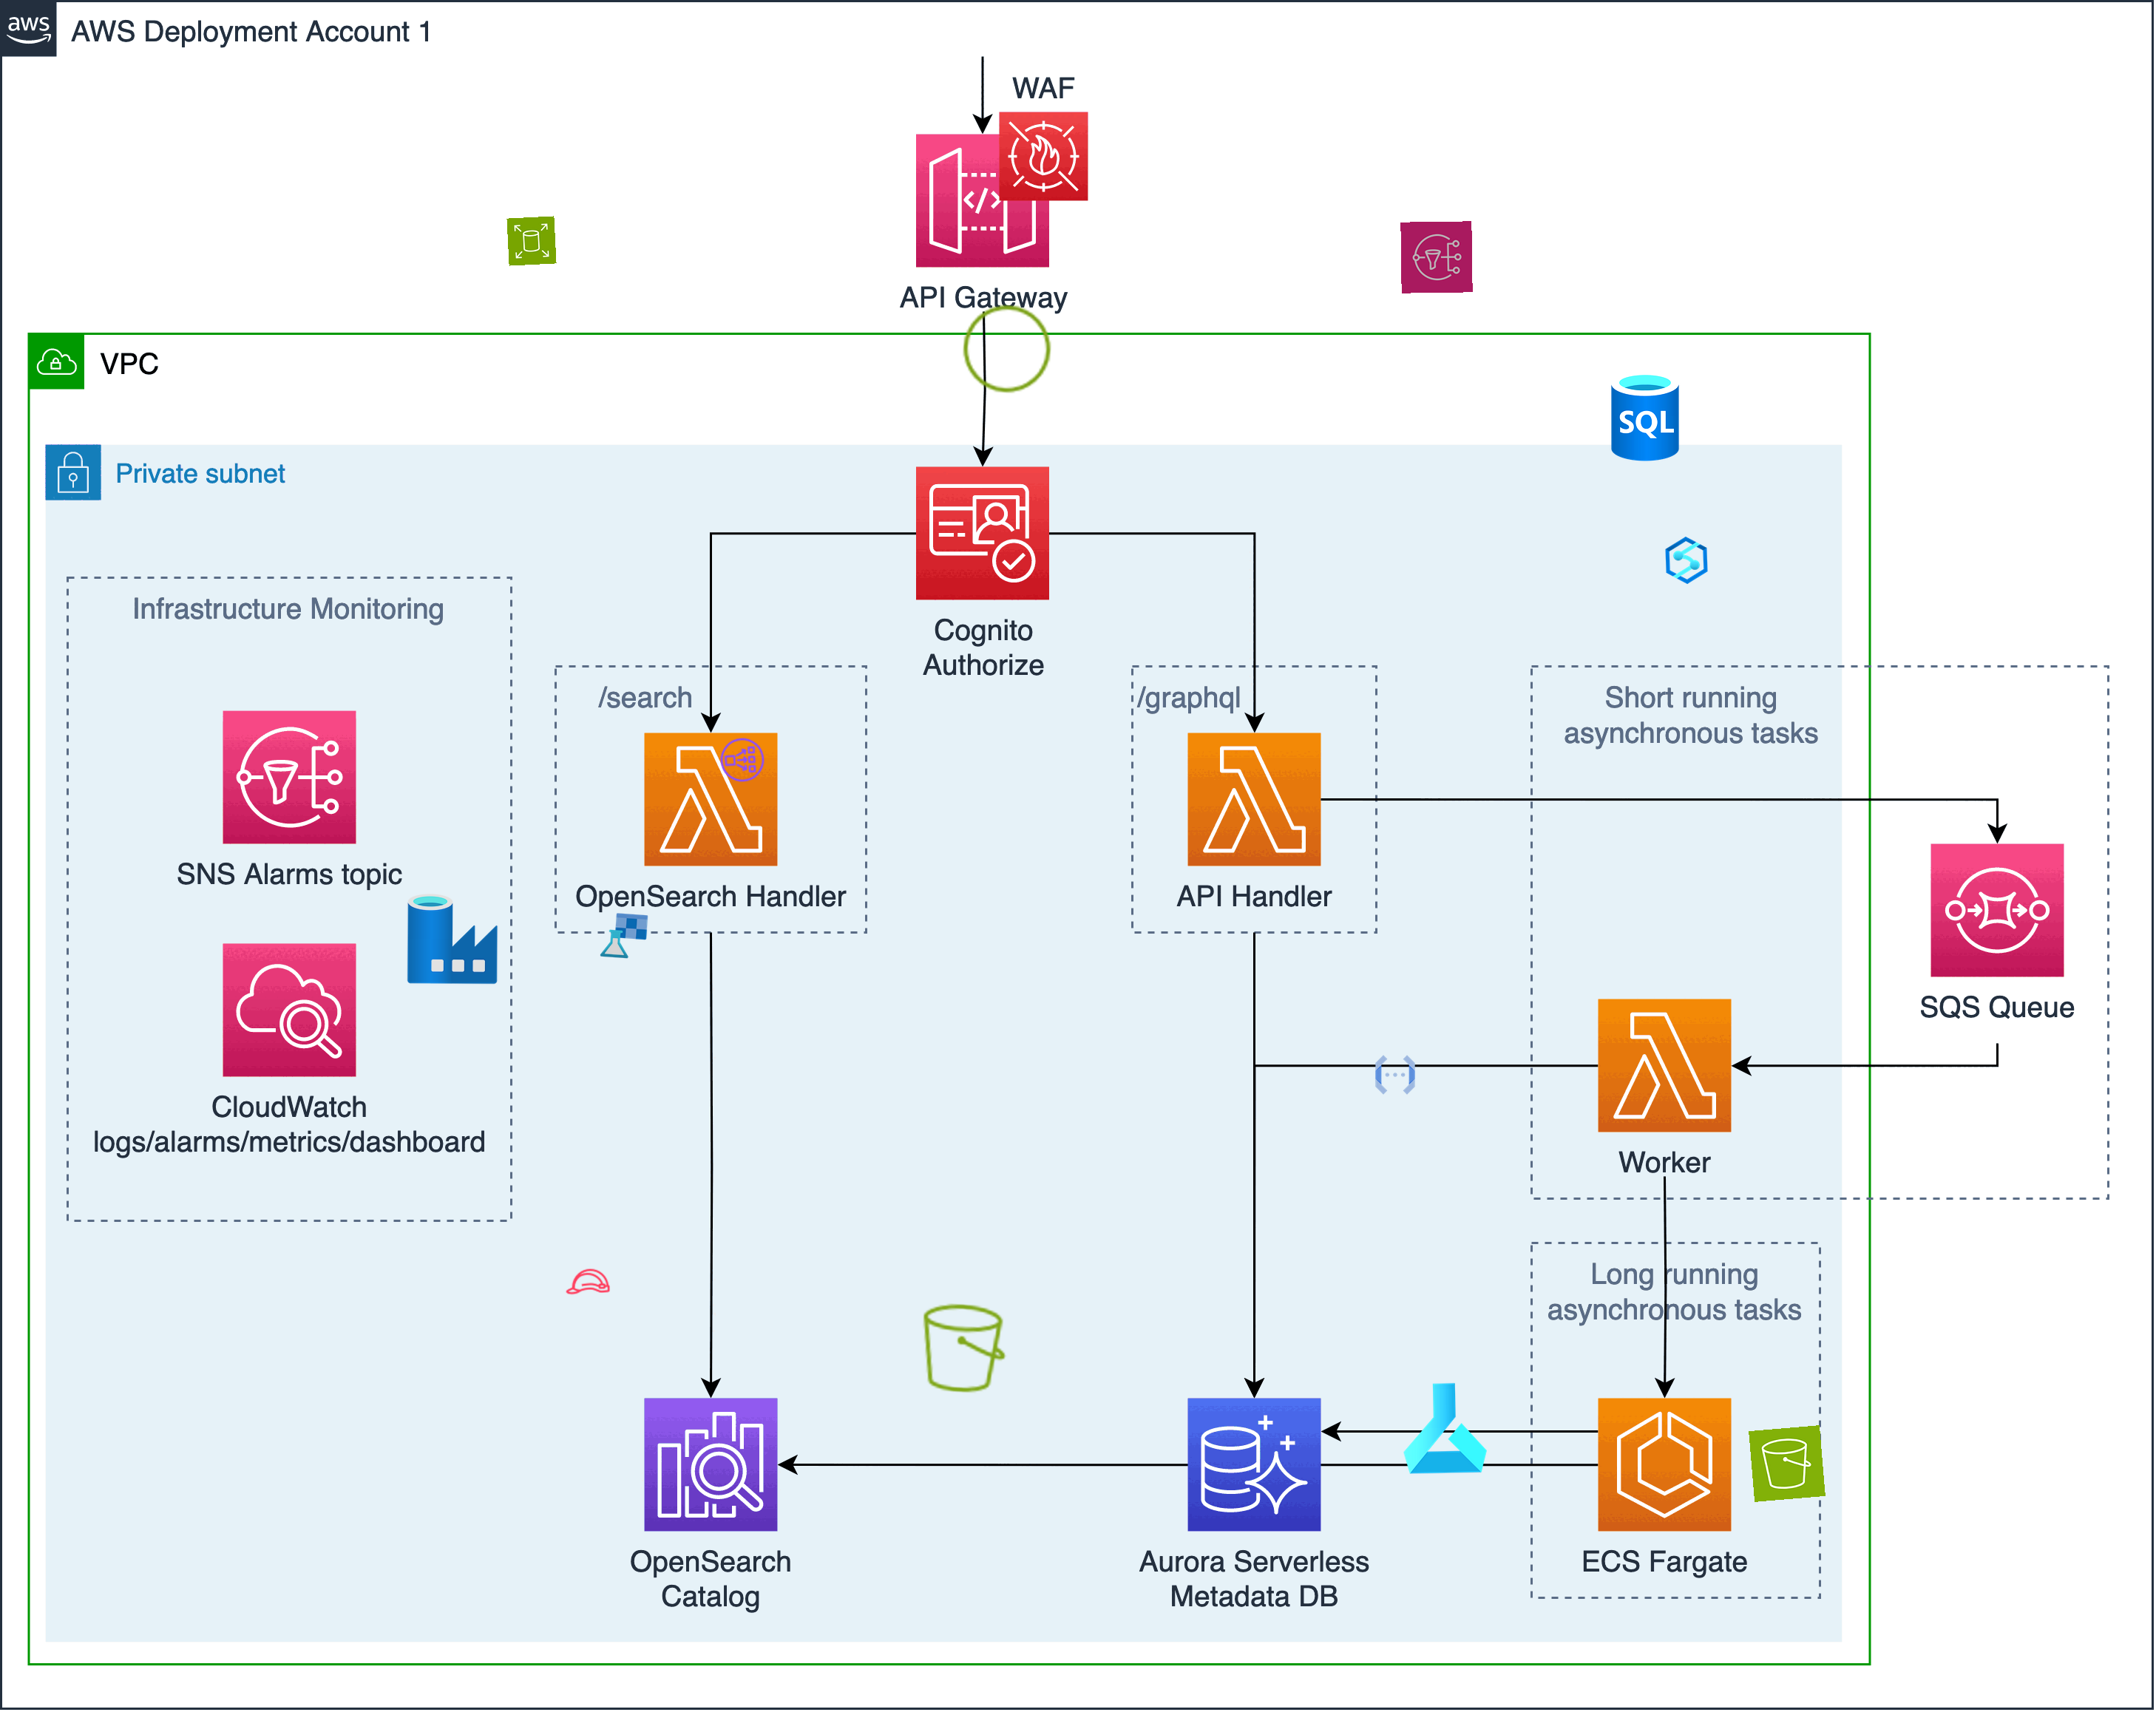aws_amazon_elastic_block_store: (506, 215, 556, 266)
aws_amazon_simple_notification_service: (1400, 220, 1474, 294)
aws_amazon_simple_storage_service: (1748, 1425, 1825, 1502)
aws_elastic_load_balancing_network_load_balancer: (717, 734, 768, 785)
aws_identity_access_management_role: (564, 1257, 613, 1306)
aws_simple_storage_service_bucket: (912, 1298, 1015, 1399)
aws_simple_storage_service_object: (957, 299, 1057, 399)
azure_data_factories: (404, 890, 500, 986)
azure_machine_learning: (1397, 1380, 1493, 1478)
azure_machine_learning_studio_workspaces: (599, 909, 649, 962)
azure_sql_database: (1598, 369, 1694, 463)
azure_synapse_analytics: (1661, 535, 1712, 586)
gcp_cloud_functions: (1370, 1051, 1419, 1100)
